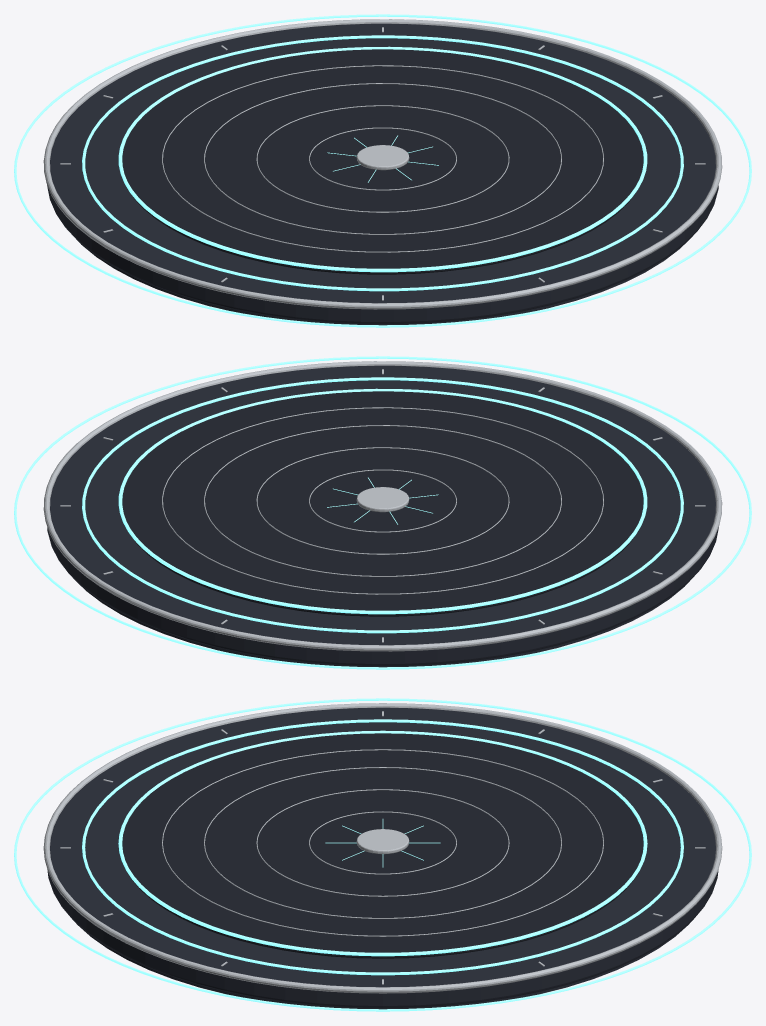
The model's file is customization_platform.glb.
3 renders of one model, top to bottom at view 1: azimuth 30°, elevation 25°; view 2: azimuth 150°, elevation 25°; view 3: azimuth 270°, elevation 25°, orthographic.
Parts seen in each view (by area): view 1: inner_deck, base_disc, outer_trim, float_ring, accent_ring, inner_ring, score_2.1, bottom_disc, score_1.7, center_hub, score_1.2, score_0.7; view 2: inner_deck, base_disc, outer_trim, float_ring, accent_ring, inner_ring, score_2.1, bottom_disc, score_1.7, center_hub, score_1.2, score_0.7; view 3: inner_deck, base_disc, outer_trim, float_ring, accent_ring, inner_ring, score_2.1, bottom_disc, score_1.7, center_hub, score_1.2, score_0.7.
Part boxes in pixels (bbox=[...]): inner_deck: bbox=[122, 49, 643, 274]; base_disc: bbox=[47, 23, 718, 324]; outer_trim: bbox=[43, 19, 722, 309]; float_ring: bbox=[14, 14, 751, 327]; accent_ring: bbox=[82, 35, 683, 291]; inner_ring: bbox=[118, 46, 647, 272]; score_2.1: bbox=[162, 65, 603, 252]; bottom_disc: bbox=[78, 236, 692, 325]; score_1.7: bbox=[204, 83, 561, 234]; center_hub: bbox=[356, 145, 409, 170]; score_1.2: bbox=[256, 105, 509, 212]; score_0.7: bbox=[309, 127, 456, 190]; inner_deck: bbox=[122, 391, 643, 616]; base_disc: bbox=[47, 365, 718, 666]; outer_trim: bbox=[43, 361, 722, 651]; float_ring: bbox=[14, 356, 751, 669]; accent_ring: bbox=[82, 377, 683, 633]; inner_ring: bbox=[118, 388, 647, 614]; score_2.1: bbox=[162, 407, 603, 594]; bottom_disc: bbox=[73, 578, 687, 667]; score_1.7: bbox=[204, 425, 561, 576]; center_hub: bbox=[356, 487, 409, 512]; score_1.2: bbox=[256, 447, 509, 554]; score_0.7: bbox=[309, 469, 456, 532]; inner_deck: bbox=[122, 733, 643, 958]; base_disc: bbox=[47, 707, 718, 1008]; outer_trim: bbox=[43, 703, 722, 993]; float_ring: bbox=[14, 698, 751, 1011]; accent_ring: bbox=[82, 719, 683, 975]; inner_ring: bbox=[118, 730, 647, 956]; score_2.1: bbox=[162, 749, 603, 936]; bottom_disc: bbox=[75, 922, 690, 1009]; score_1.7: bbox=[204, 767, 561, 918]; center_hub: bbox=[356, 829, 409, 854]; score_1.2: bbox=[256, 789, 509, 896]; score_0.7: bbox=[309, 811, 456, 874].
Bounding box in the file's own units: 7.02 × 0.33 × 7.02.
